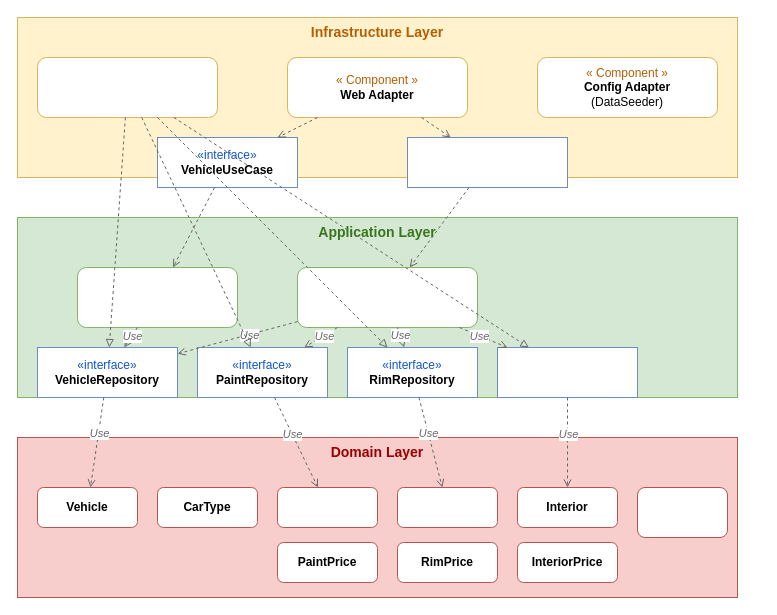
This 777x615 diagram has some shape labels left out. The shapes that lost their labels are listed below. From the top down, each one's centre as x and y in pixels, then its label:
the point at 127,87: « Component » Persistence Adapter (JPA)
the point at 487,162: «interface» ConfigurationUseCase
the point at 157,297: « Component » VehicleService
the point at 387,297: « Component » ConfigurationService
the point at 567,372: «interface» InteriorRepository
the point at 327,507: Paint
the point at 447,507: Rim
the point at 682,512: VehicleNotFoundException
